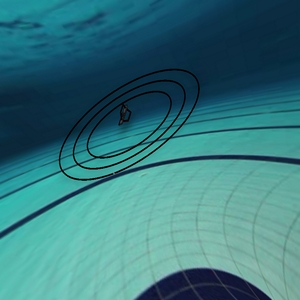circle: (55, 53, 216, 210)
submarine: (111, 98, 138, 133)
